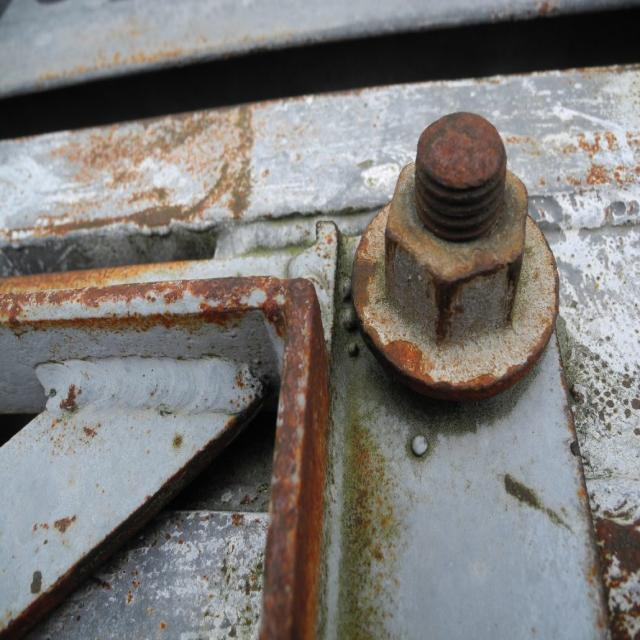bolt nut: (383, 149, 530, 347)
